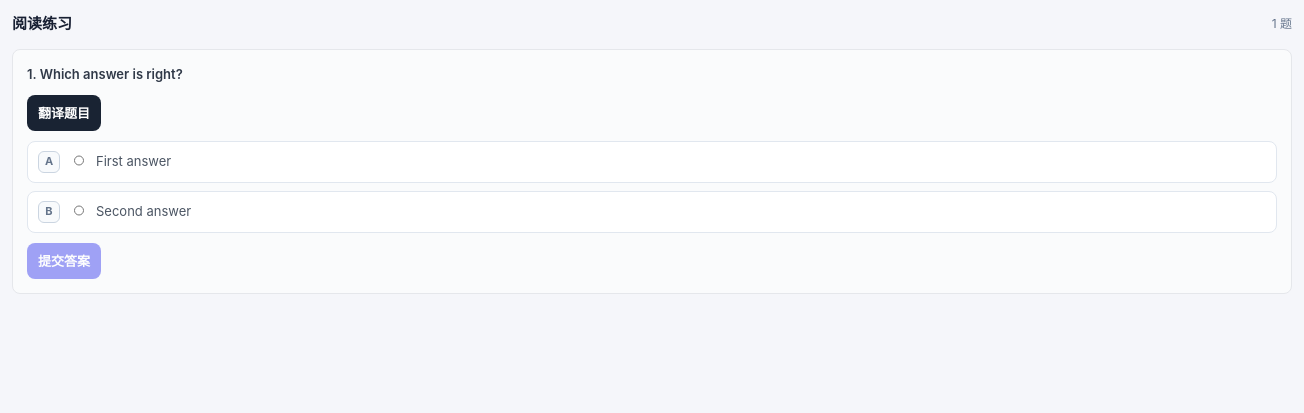
Test: LearningWorkspace › 结构化选项使用选项文本提交并展示答案
Click the radio button with aria-label "选择选项 B": (79, 210) [74,204,84,217]
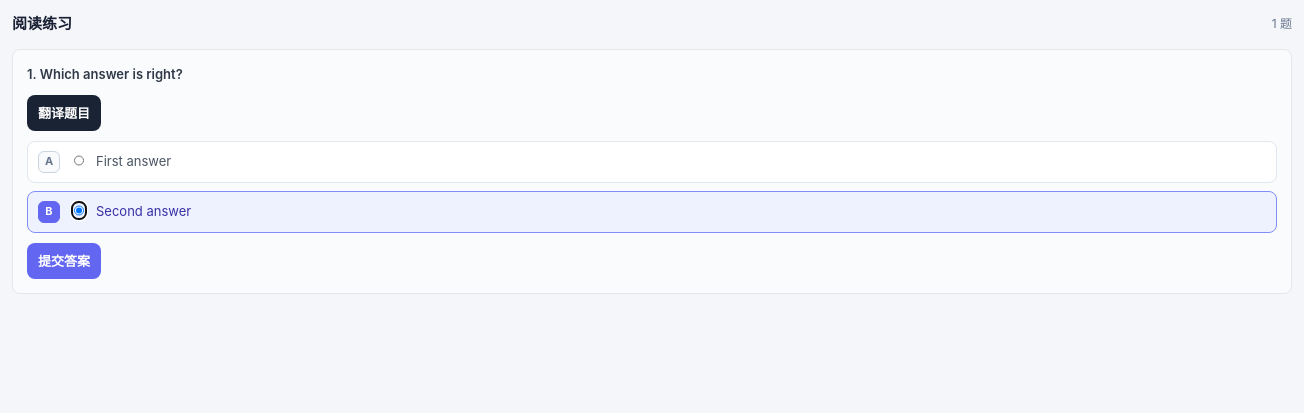
Click the button "提交答案": (64, 261) [27,243,101,279]
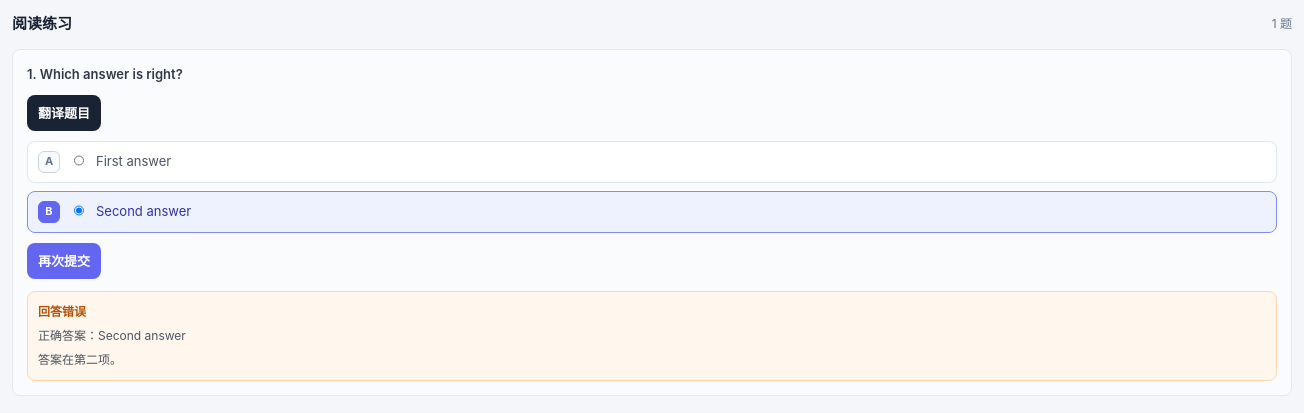
Check: the text "回答错误" is shown, box [38,304,86,319]
Check: the text "正确答案：Second answer" is shown, box [38,328,186,343]
